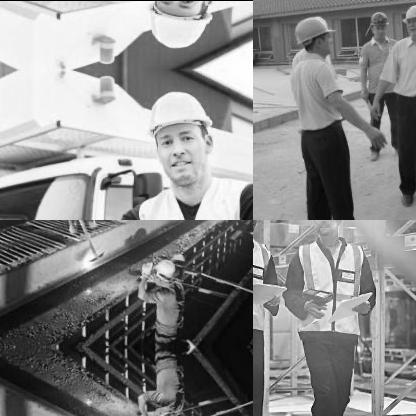Helmet: (143, 86, 216, 183), (142, 0, 217, 51), (292, 12, 336, 56), (152, 256, 176, 286), (368, 10, 388, 38), (309, 220, 344, 236), (402, 1, 415, 40), (151, 404, 177, 414)
